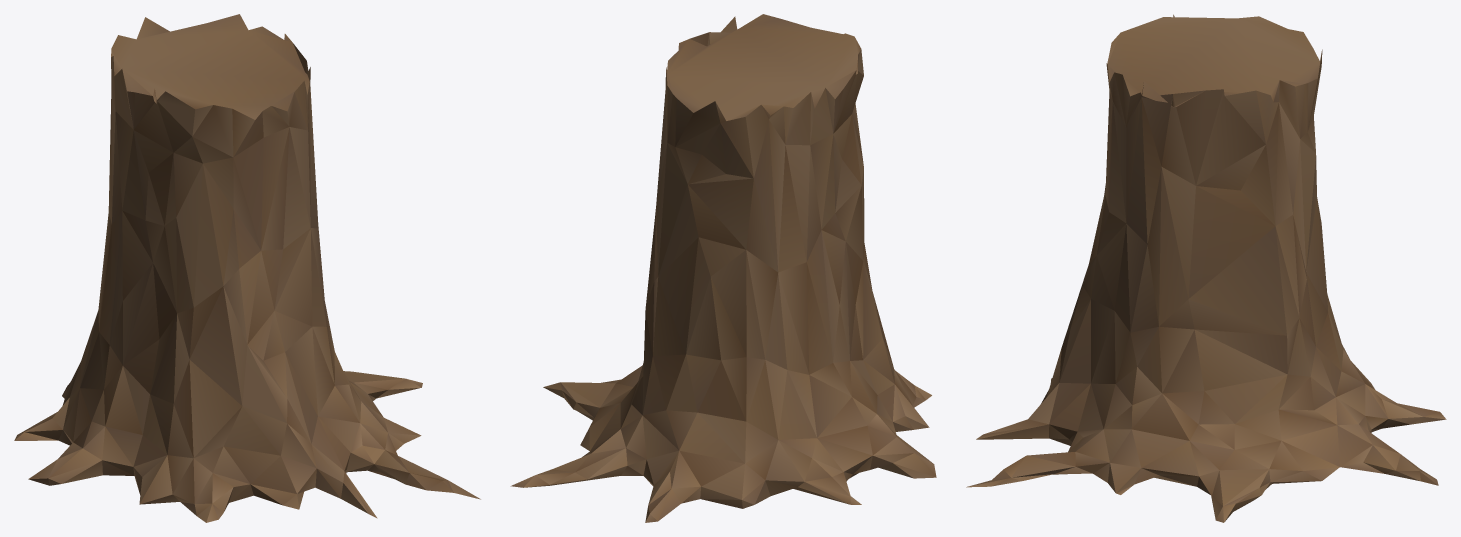
The model's file is fir_stump.glb.
The picture shows the model from 3 angles, left to right: view 1: azimuth 30°, elevation 25°; view 2: azimuth 150°, elevation 25°; view 3: azimuth 270°, elevation 25°; orthographic projection. The views are drawn at different scales.
Parts seen in each view (by area): view 1: Stump; view 2: Stump; view 3: Stump.
Boxes of the visible parts, box(x1,y1,x2,y2) form: Stump: box(14, 14, 480, 522); Stump: box(510, 14, 936, 522); Stump: box(966, 14, 1446, 522).
Bounding box in the file's own units: 0.7111 × 0.6649 × 0.7753.
